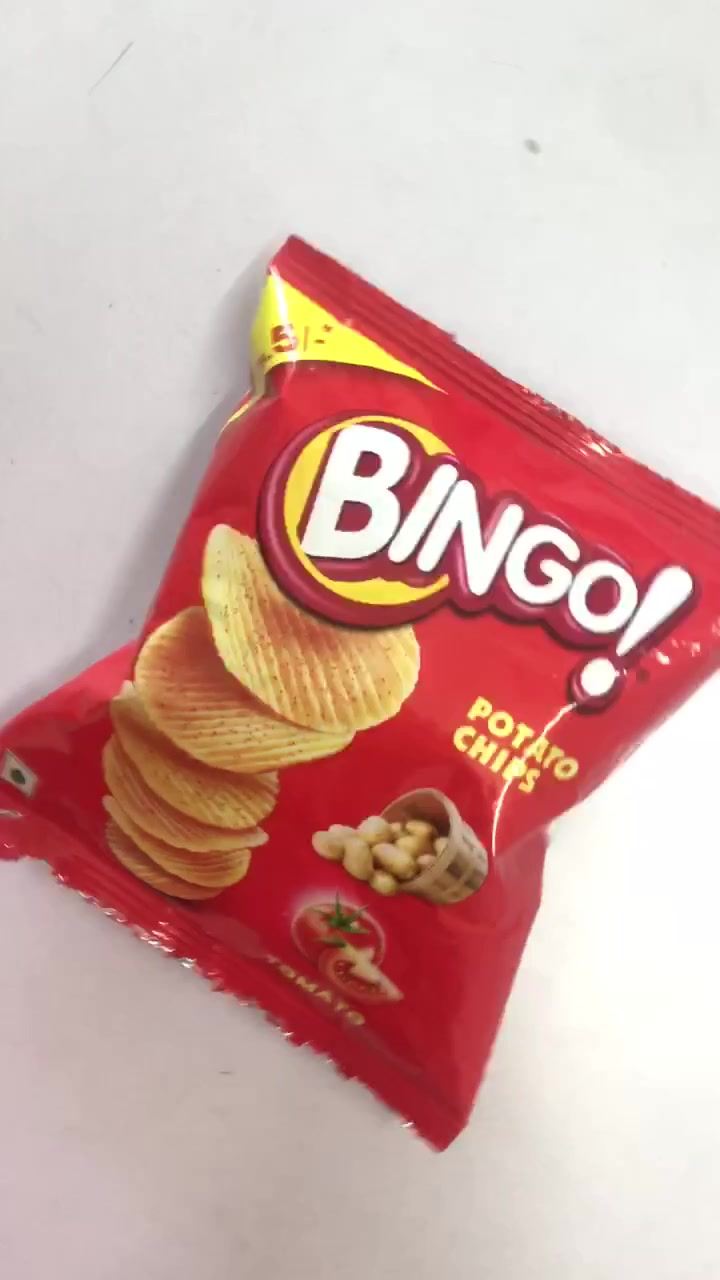Bingo: (12, 237, 720, 1138)
